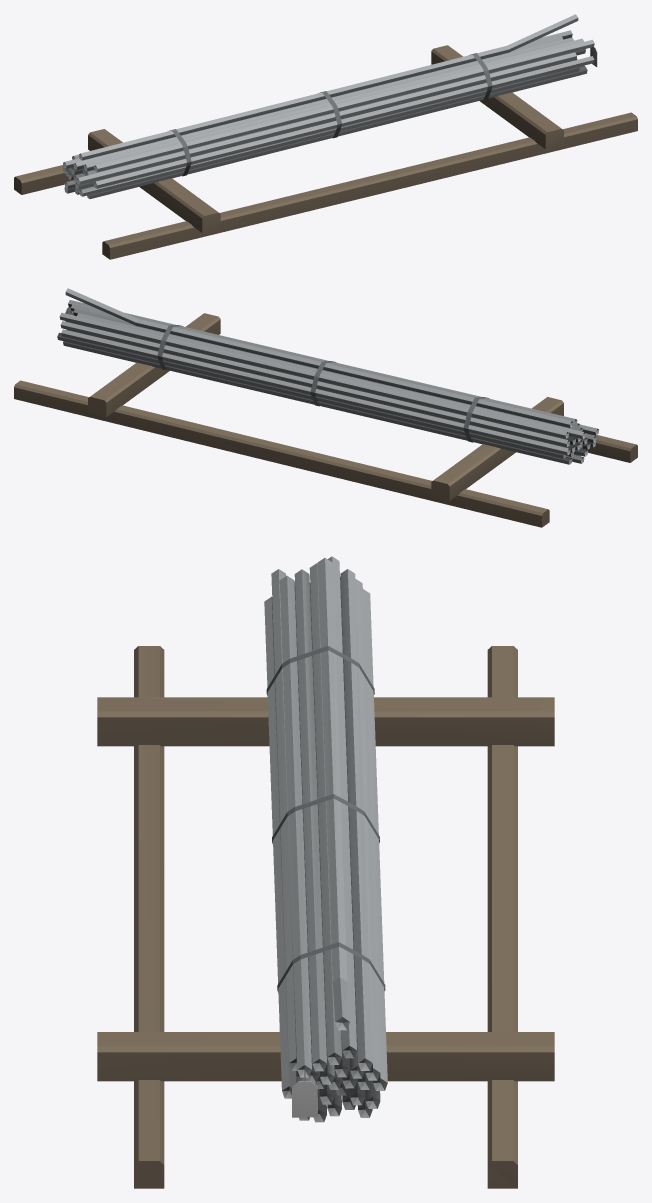
Rendered from tubes.glb.
3 views of the same model, one above another, from view 1: azimuth 30°, elevation 25°; view 2: azimuth 150°, elevation 25°; view 3: azimuth 270°, elevation 25° (orthographic). The views are drawn at different scales.
Parts seen in each view (by area): view 1: tubes; view 2: tubes; view 3: tubes.
Part boxes in pixels (x1,y1,x2,y2): tubes: (14, 14, 637, 259); tubes: (14, 288, 637, 527); tubes: (97, 556, 554, 1188).
Bounding box in the file's own units: 4 × 0.5874 × 1.5.
